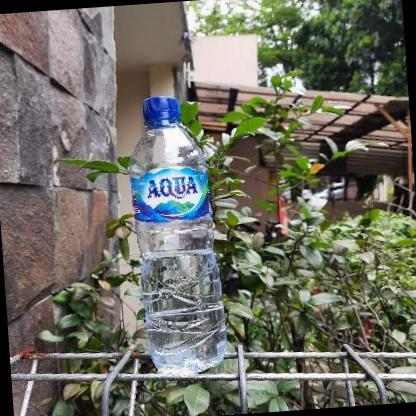plastic_bottles: (125, 91, 232, 382)
